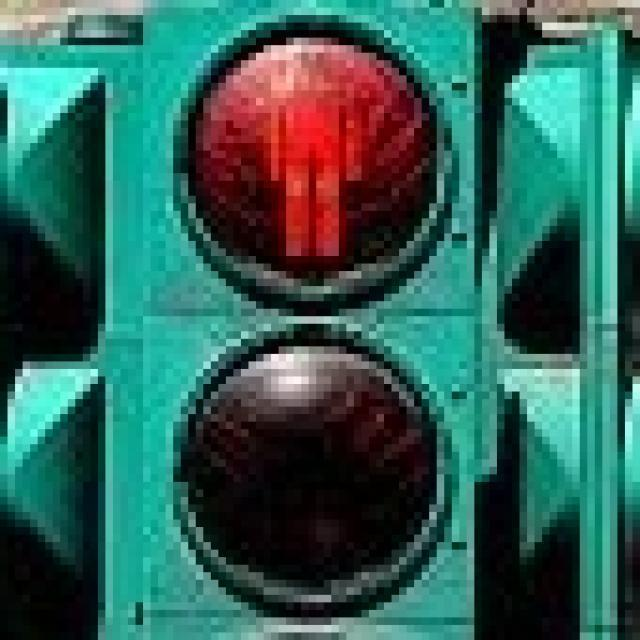red-crossing: (226, 38, 391, 264)
